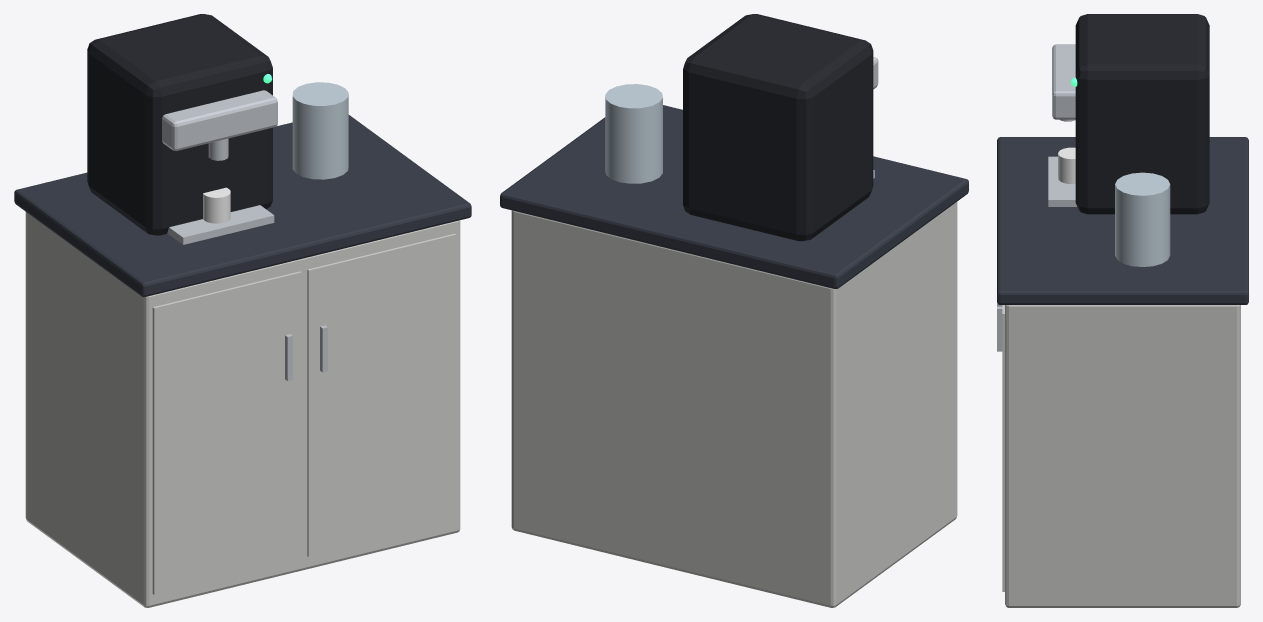
The model's file is coffee_machine.glb.
The picture shows the model from 3 angles, left to right: view 1: azimuth 30°, elevation 25°; view 2: azimuth 150°, elevation 25°; view 3: azimuth 270°, elevation 25°; orthographic projection. The views are drawn at different scales.
Parts seen in each view (by area): view 1: CoffeeMachine; view 2: CoffeeMachine; view 3: CoffeeMachine.
Part boxes in pixels (<box>): CoffeeMachine: <box>14,14,471,607</box>; CoffeeMachine: <box>500,14,968,607</box>; CoffeeMachine: <box>997,14,1248,607</box>.
Bounding box in the file's own units: 0.94 × 1.32 × 0.64.
